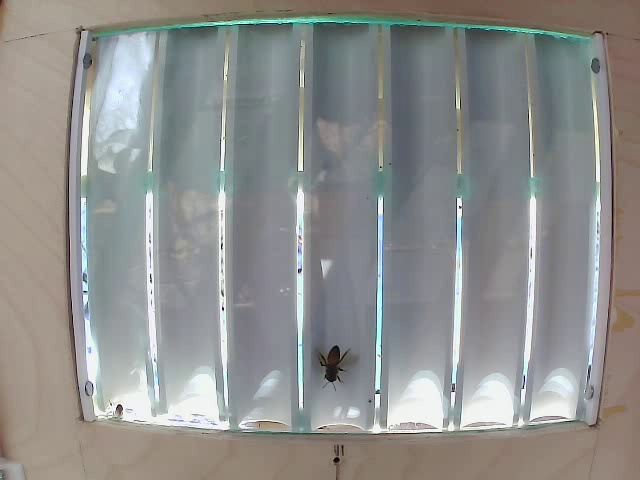bee: (308, 335, 367, 396)
